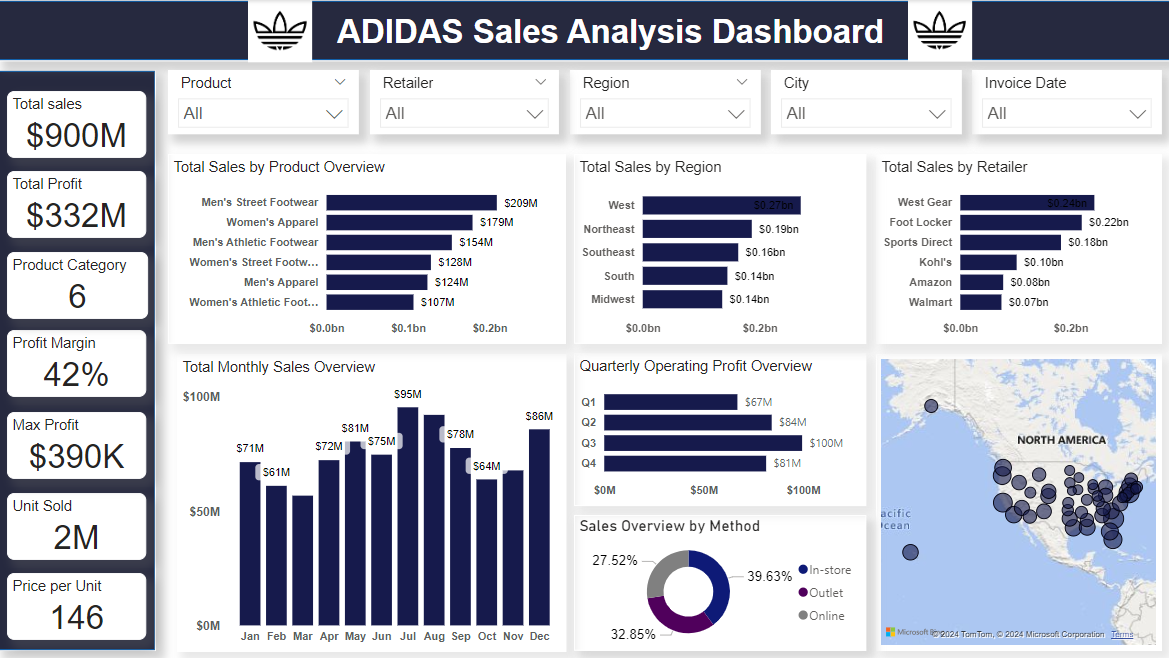

This screenshot's page, from the dashboard's own definition file:
{"tool":"powerbi","page":{"name":"Page 1","canvas":[1280,720],"ordinal":0},"visuals":[{"type":"shape","box":[0,76.4,172.4,634],"z":0},{"type":"shape","box":[0,0,1280,66.6],"z":1000},{"type":"actionButton","title":"ADIDAS Sales Analysis Dashboard","box":[349.2,8.7,638.4,57.8],"z":2000},{"type":"image","box":[993.5,0,69.7,67.1],"z":3000},{"type":"image","box":[272.8,0,69.8,67.7],"z":4000},{"type":"card","title":"Total sales","fields":{"Values":["Sum(Data Sales Adidas.Total Sales)"]},"box":[9.8,99.3,151.7,73.1],"z":5000},{"type":"card","title":"Total Profit","fields":{"Values":["Sum(Data Sales Adidas.Operating Profit)"]},"box":[9.8,187,151.7,73.1],"z":6000},{"type":"card","title":"Unit Sold","fields":{"Values":["Sum(Data Sales Adidas.Units Sold)"]},"box":[9.8,537.6,151.7,73.1],"z":7000},{"type":"card","title":"Price per Unit","fields":{"Values":["Count(Data Sales Adidas.Price per Unit)"]},"box":[9.8,625.3,151.7,73.1],"z":8000},{"type":"card","title":"Profit Margin","fields":{"Values":["Avg(Data Sales Adidas.Operating Margin)"]},"box":[9.8,360.1,151.7,73.1],"z":9000},{"type":"card","title":"Max Profit","fields":{"Values":["Max(Data Sales Adidas.Operating Profit)"]},"box":[9.8,449.9,151.7,73.1],"z":10000},{"type":"card","title":"Product Category","fields":{"Values":["Count(Data Sales Adidas.Product)"]},"box":[9.8,274.6,153.9,73.1],"z":11000},{"type":"lineStackedColumnComboChart","title":"Total Monthly Sales Overview","fields":{"Category":["Data Sales Adidas.Month"],"Y":["Sum(Data Sales Adidas.Total Sales)"]},"box":[194.8,385.8,424.5,325.2],"z":12000},{"type":"clusteredBarChart","title":"Quarterly Operating Profit Overview","fields":{"Category":["Data Sales Adidas.QTR"],"Y":["Sum(Data Sales Adidas.Operating Profit)"]},"box":[628.5,385.2,318.6,167],"z":13000},{"type":"map","fields":{"Category":["Data Sales Adidas.City"],"Size":["Sum(Data Sales Adidas.Total Sales)"]},"box":[958.1,386.3,312.1,324.1],"z":14000},{"type":"barChart","title":"Total Sales by Product Overview","fields":{"Category":["Data Sales Adidas.Product"],"Y":["Sum(Data Sales Adidas.Total Sales)"]},"box":[185.5,168,434.3,207.3],"z":15000},{"type":"barChart","title":"Total Sales by Retailer","fields":{"Category":["Data Sales Adidas.Retailer"],"Y":["Sum(Data Sales Adidas.Total Sales)"]},"box":[958.1,168,312.1,207.3],"z":16000},{"type":"donutChart","title":"Sales Overview by Method","fields":{"Category":["Data Sales Adidas.Sales Method"],"Y":["Sum(Data Sales Adidas.Total Sales)"]},"box":[628.5,562,318.6,148.4],"z":17000},{"type":"barChart","title":"Total Sales by Region","fields":{"Category":["Data Sales Adidas.Region"],"Y":["Sum(Data Sales Adidas.Total Sales)"]},"box":[628.5,168,318.6,207.3],"z":18000},{"type":"slicer","fields":{"Values":["Data Sales Adidas.Invoice Date"]},"box":[1062.8,76.4,207.3,69.8],"z":19000},{"type":"slicer","fields":{"Values":["Data Sales Adidas.Region"]},"box":[623.7,76.1,207.7,69.7],"z":19001},{"type":"slicer","fields":{"Values":["Data Sales Adidas.Product"]},"box":[185.8,76.1,207.7,69.7],"z":19002},{"type":"slicer","fields":{"Values":["Data Sales Adidas.City"]},"box":[843.3,76.1,207.7,69.7],"z":19003},{"type":"slicer","fields":{"Values":["Data Sales Adidas.Retailer"]},"box":[405.4,76.1,206.5,69.7],"z":19004}]}

Visuals, with their boxes in screenshot pixels (x1, y1, x2, y2), scaled from the page's 1280x720 canvas onto the 1169x658 screenshot:
shape: bbox(0, 70, 157, 649)
shape: bbox(0, 0, 1168, 61)
"ADIDAS Sales Analysis Dashboard" actionButton: bbox(319, 8, 902, 61)
image: bbox(907, 0, 971, 61)
image: bbox(249, 0, 313, 62)
"Total sales" card: bbox(9, 91, 147, 158)
"Total Profit" card: bbox(9, 171, 147, 238)
"Unit Sold" card: bbox(9, 491, 147, 558)
"Price per Unit" card: bbox(9, 571, 147, 638)
"Profit Margin" card: bbox(9, 329, 147, 396)
"Max Profit" card: bbox(9, 411, 147, 478)
"Product Category" card: bbox(9, 251, 150, 318)
"Total Monthly Sales Overview" lineStackedColumnComboChart: bbox(178, 353, 566, 650)
"Quarterly Operating Profit Overview" clusteredBarChart: bbox(574, 352, 865, 505)
map - Data Sales Adidas.City x Sum(Data Sales Adidas.Total Sales): bbox(875, 353, 1160, 649)
"Total Sales by Product Overview" barChart: bbox(169, 154, 566, 343)
"Total Sales by Retailer" barChart: bbox(875, 154, 1160, 343)
"Sales Overview by Method" donutChart: bbox(574, 514, 865, 649)
"Total Sales by Region" barChart: bbox(574, 154, 865, 343)
slicer - Data Sales Adidas.Invoice Date: bbox(971, 70, 1160, 134)
slicer - Data Sales Adidas.Region: bbox(570, 70, 759, 133)
slicer - Data Sales Adidas.Product: bbox(170, 70, 359, 133)
slicer - Data Sales Adidas.City: bbox(770, 70, 960, 133)
slicer - Data Sales Adidas.Retailer: bbox(370, 70, 559, 133)
